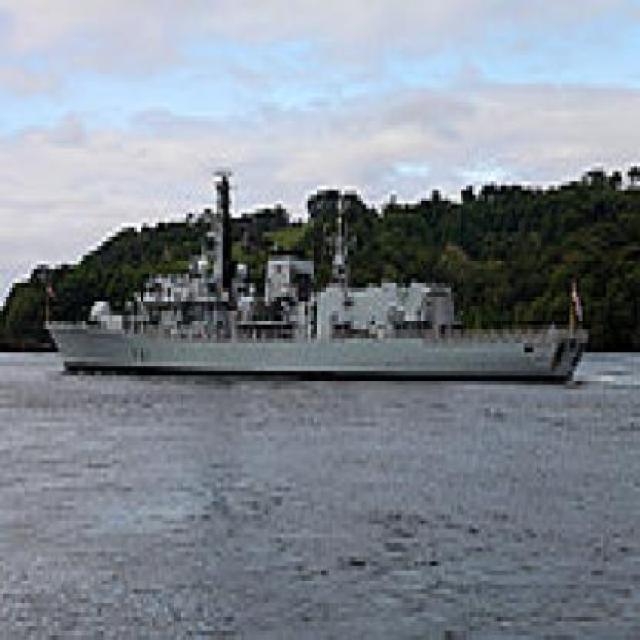warship2: (44, 94, 587, 391)
